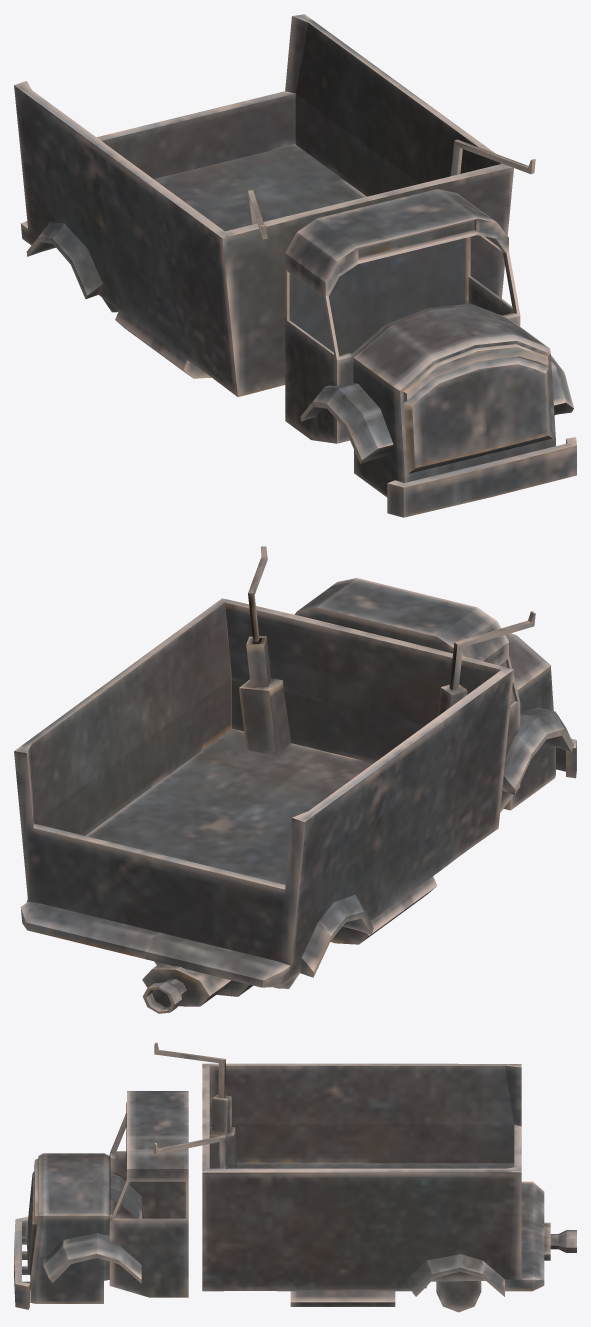
The model's file is Truck_v006_Core.obj.
The picture shows the model from 3 angles, top to bottom: view 1: azimuth 30°, elevation 25°; view 2: azimuth 150°, elevation 25°; view 3: azimuth 270°, elevation 25°; orthographic projection. The views are drawn at different scales.
Visible parts, largest first — view 1: Truck_core; view 2: Truck_core; view 3: Truck_core.
Part boxes in pixels (bbox=[...]): Truck_core: bbox=[14, 14, 576, 517]; Truck_core: bbox=[14, 546, 576, 1013]; Truck_core: bbox=[14, 1042, 576, 1312].
Bounding box in the file's own units: 2.09 × 1.65 × 4.52.
